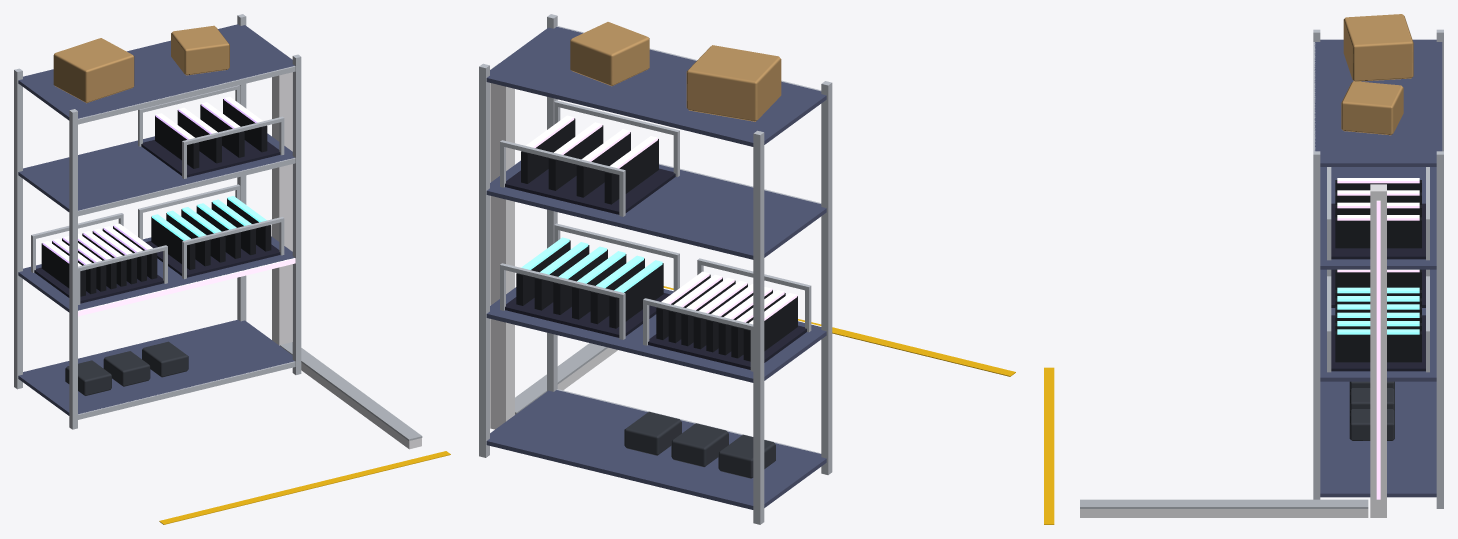
Rendered from station_buffer_2.glb.
3 renders of one model, left to right at view 1: azimuth 30°, elevation 25°; view 2: azimuth 150°, elevation 25°; view 3: azimuth 270°, elevation 25°, orthographic. The views are drawn at different scales.
Visible parts, largest first — view 1: station_buffer_2; view 2: station_buffer_2; view 3: station_buffer_2.
Boxes of the visible parts, box(x1,y1,x2,y2) form: station_buffer_2: box(14, 14, 450, 524); station_buffer_2: box(479, 14, 1015, 524); station_buffer_2: box(1044, 14, 1443, 524).
Bounding box in the file's own units: 1.8 × 2.05 × 1.94.
